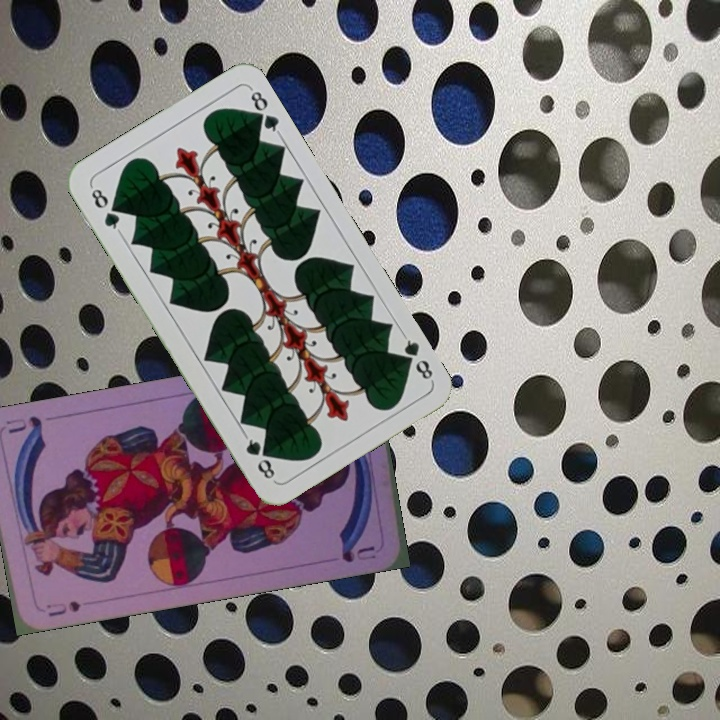G8: (395, 330, 436, 384), (86, 181, 124, 235)
SU: (42, 597, 83, 619)
